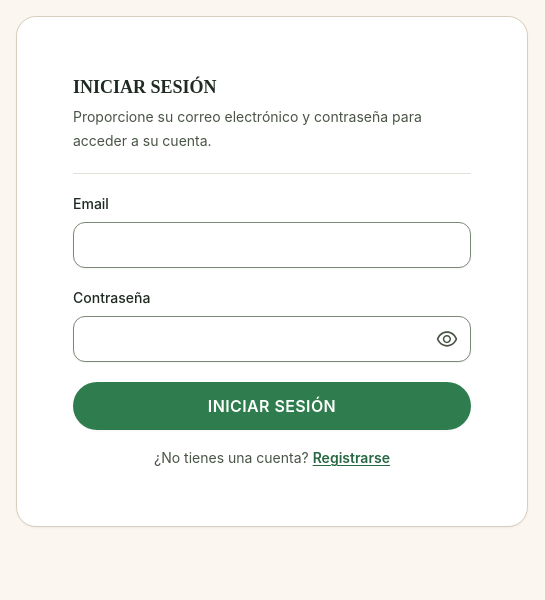
Scenario: Login › announces a wrong password
Type "ana@example.com" into the field labelled "Email" at (272, 245), box [73,222,471,268]
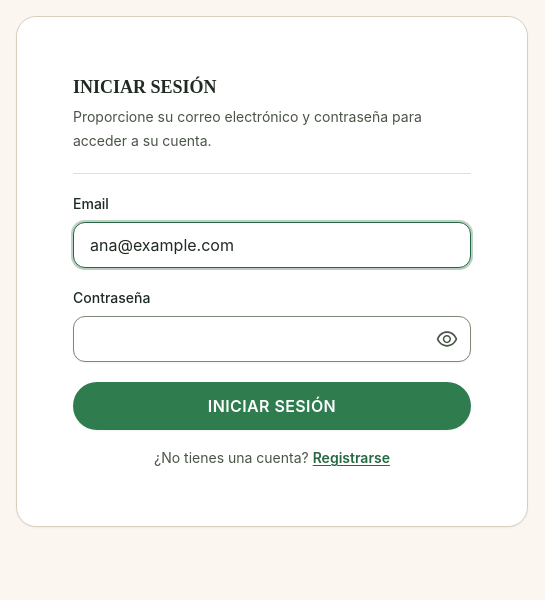
Type "nope" into the password field labelled "Contraseña" at (272, 339), box [73,316,471,362]
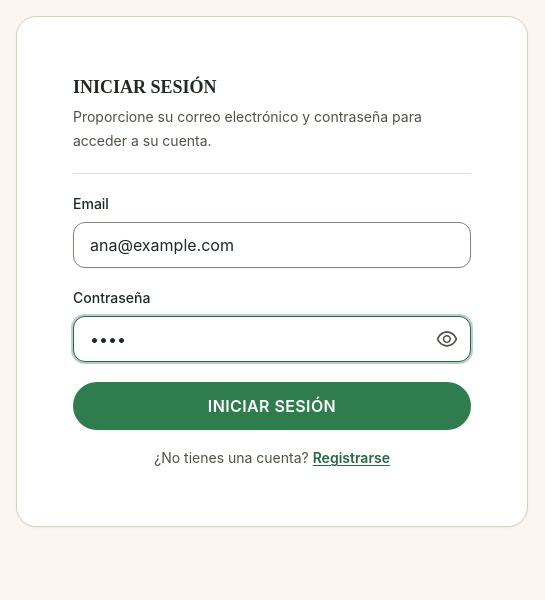
Click the button "Iniciar Sesión" at (272, 406), box [73,382,471,430]
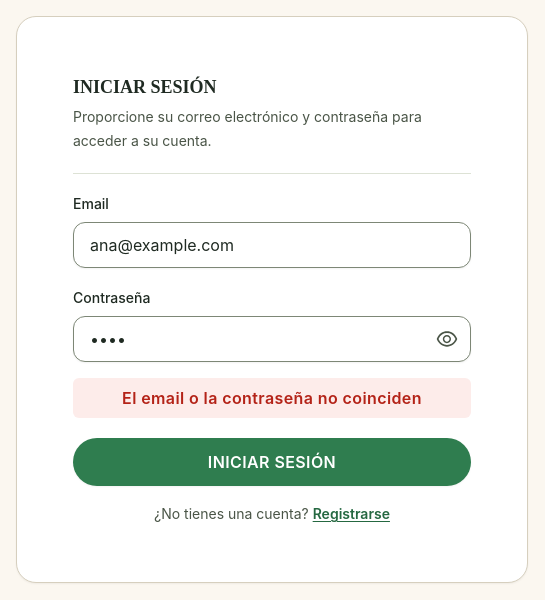
Check: the message reads "El email o la contraseña no coinciden", box [122,388,422,408]
